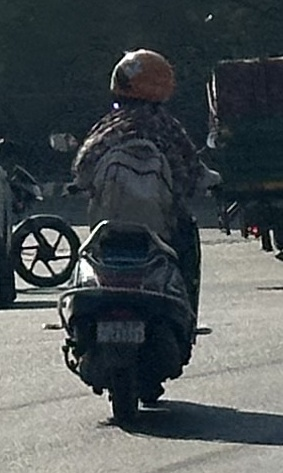BikeWithRider: (37, 41, 225, 429)
Helmet: (102, 42, 182, 112)
